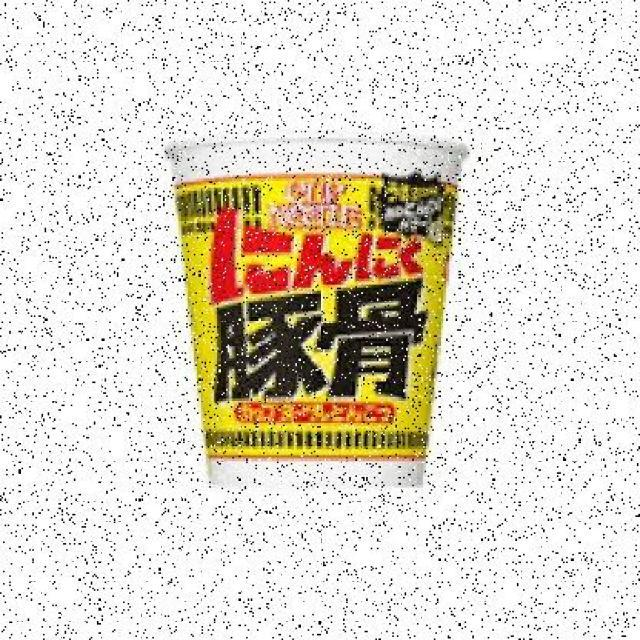Miscellaneous: (153, 124, 492, 510)
